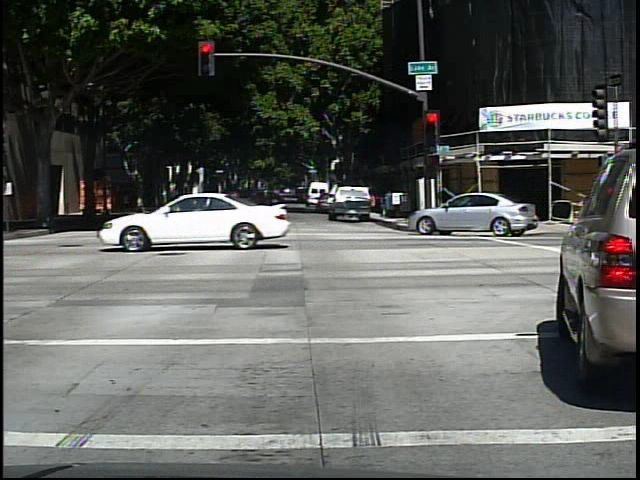person: (86, 186, 103, 220)
